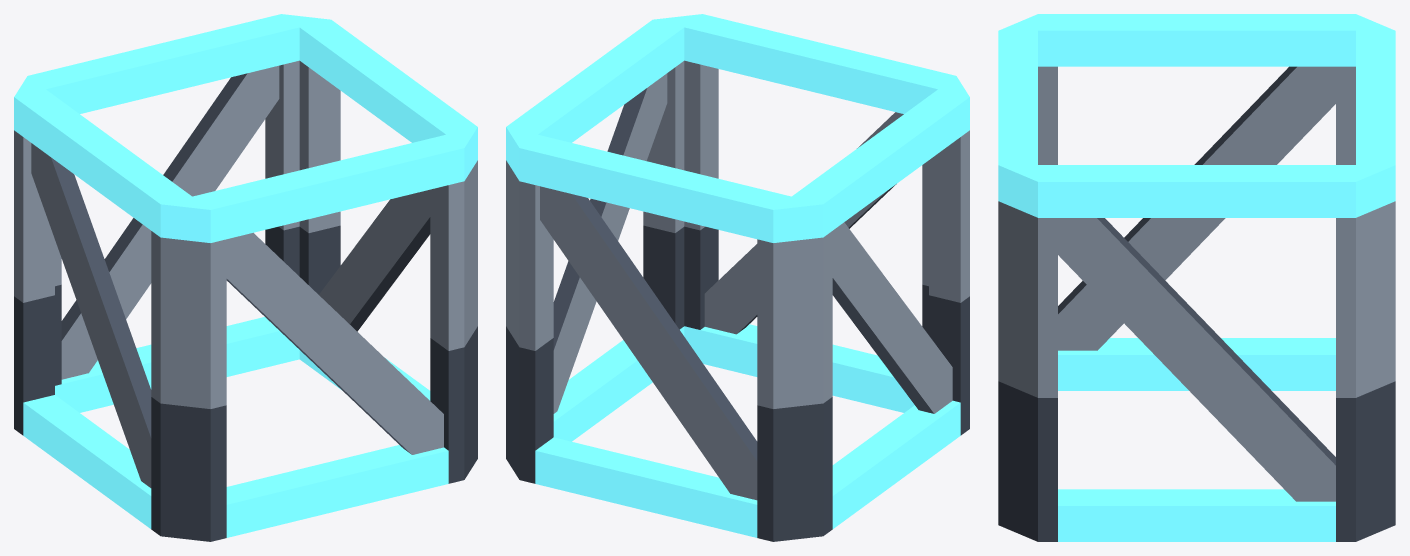
File: structure_diagonal.glb
3 renders of one model, left to right at view 1: azimuth 30°, elevation 25°; view 2: azimuth 150°, elevation 25°; view 3: azimuth 270°, elevation 25°, orthographic. The views are drawn at different scales.
Parts seen in each view (by area): view 1: structure_diagonal; view 2: structure_diagonal; view 3: structure_diagonal.
Part boxes in pixels (box(x1,y1,x2,y2)): structure_diagonal: box(14, 14, 477, 541); structure_diagonal: box(506, 14, 969, 541); structure_diagonal: box(998, 14, 1395, 541).
Bounding box in the file's own units: 1 × 1 × 1.
